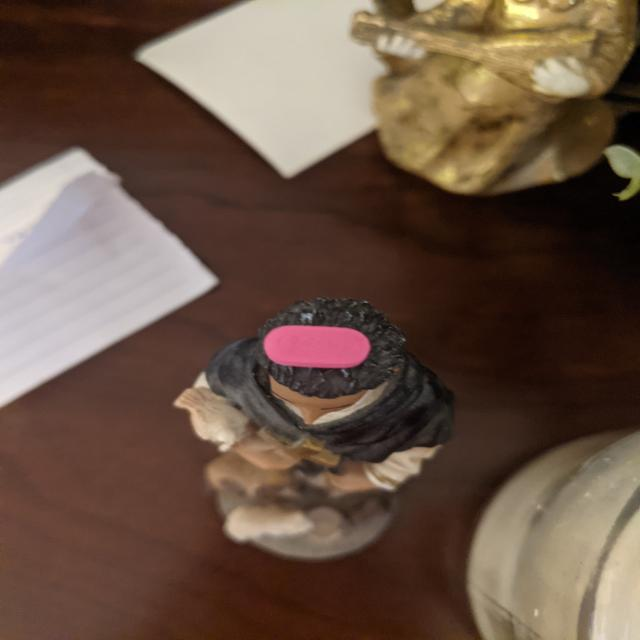non-organic waste: (263, 323, 372, 369)
